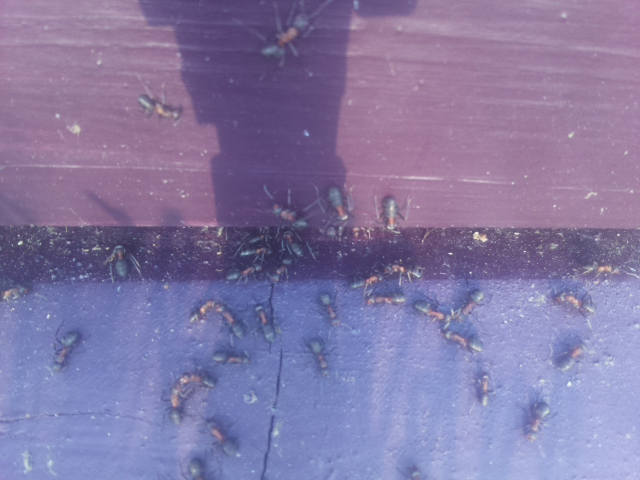ant: (250, 0, 318, 79), (156, 363, 222, 431), (402, 290, 474, 337), (198, 408, 247, 467), (128, 84, 190, 127), (44, 323, 86, 376), (447, 281, 490, 332), (262, 195, 314, 236), (434, 321, 491, 358), (319, 178, 358, 228), (209, 296, 247, 340), (315, 284, 347, 336), (251, 297, 281, 350), (300, 335, 336, 379), (468, 364, 501, 409), (520, 398, 553, 441), (100, 239, 132, 283), (552, 339, 592, 374), (379, 192, 403, 235), (210, 348, 249, 365), (0, 283, 28, 305)
